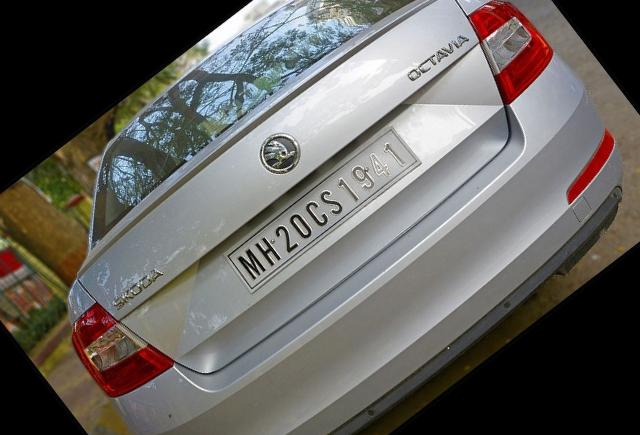plate: (217, 121, 426, 298)
